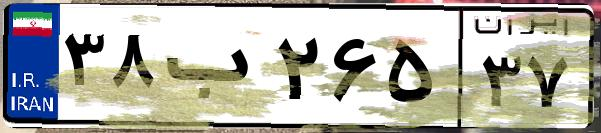2: (270, 28, 330, 110)
3: (57, 26, 110, 100), (475, 38, 525, 113)
5: (385, 28, 445, 110)
6: (330, 28, 385, 110)
7: (525, 38, 570, 115)
8: (110, 28, 158, 98)
ب: (158, 20, 270, 120)
